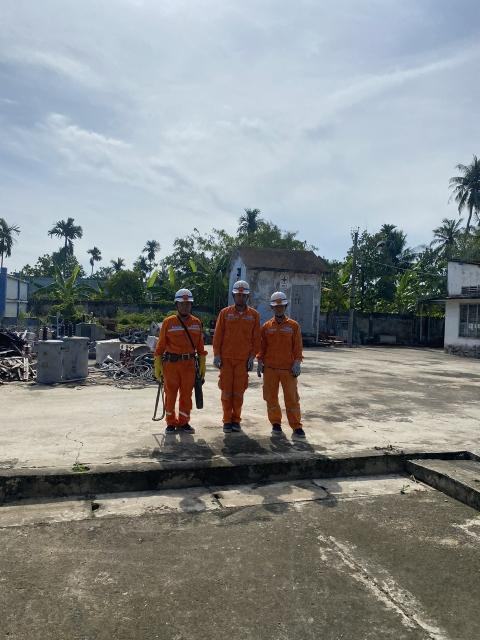gloves: (149, 353, 168, 384), (198, 350, 212, 383), (211, 356, 225, 369), (291, 360, 301, 378), (246, 359, 256, 373), (256, 359, 263, 379)
harness: (166, 352, 205, 365)
helmet: (168, 284, 197, 308), (271, 291, 288, 308), (230, 283, 254, 295)
shoes: (291, 425, 308, 441), (176, 423, 198, 435), (231, 419, 242, 436), (161, 425, 177, 435), (271, 423, 286, 433), (224, 421, 230, 433)
